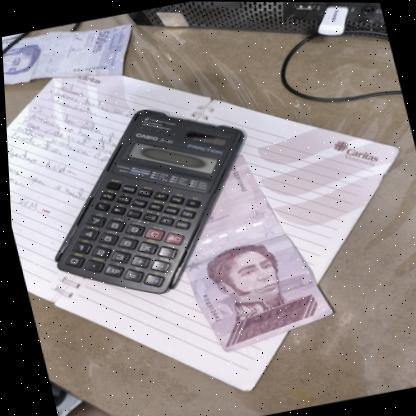one_hundred-front-vef: (155, 142, 336, 357)
